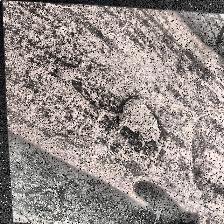pothole: (111, 87, 167, 155)
